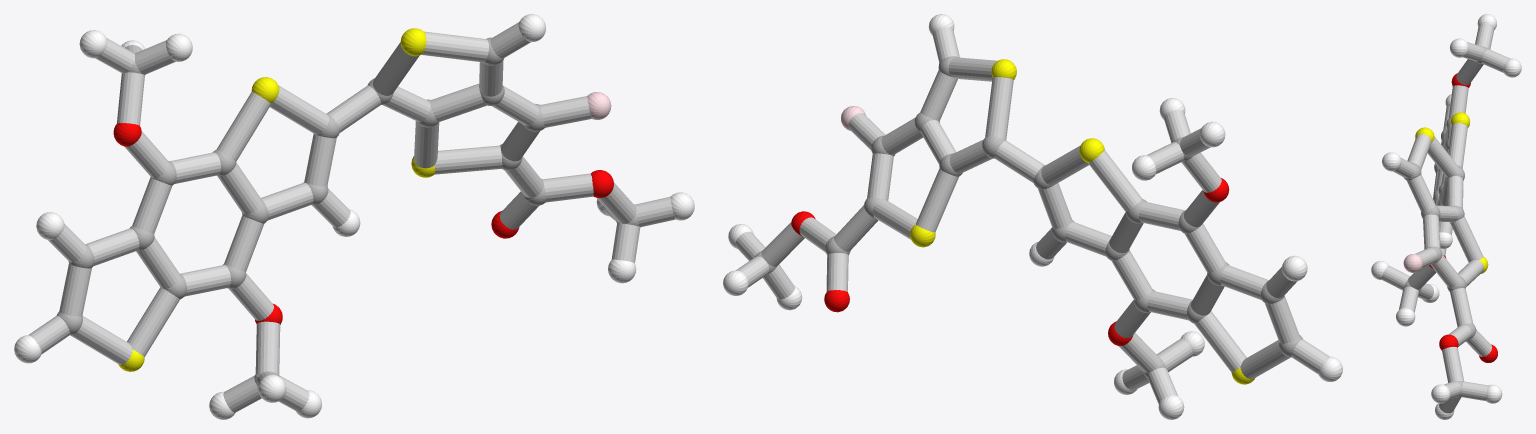
Rendered from Dimethoxy_Benzodithiophene_Phi_30_Theta_210_Methylcarbonyl_3_Fluoro_Thienothiophene.glb.
The picture shows the model from 3 angles, left to right: view 1: azimuth 30°, elevation 25°; view 2: azimuth 150°, elevation 25°; view 3: azimuth 270°, elevation 25°; orthographic projection. The views are drawn at different scales.
Parts seen in each view (by area): view 1: grp15205, grp8689, grp1, grp7241, grp13395; view 2: grp15205, grp8689, grp1, grp7241, grp13395; view 3: grp15205, grp8689, grp1, grp13395, grp7241, grp14843.
Boxes of the visible parts, left/top/right/bottom form: grp15205: left=28, top=22, right=675, bottom=412; grp8689: left=14, top=14, right=694, bottom=419; grp1: left=56, top=37, right=639, bottom=383; grp7241: left=118, top=28, right=434, bottom=371; grp13395: left=113, top=123, right=613, bottom=324; grp15205: left=735, top=27, right=1329, bottom=404; grp8689: left=723, top=14, right=1342, bottom=419; grp1: left=754, top=56, right=1302, bottom=378; grp7241: left=910, top=59, right=1254, bottom=384; grp13395: left=791, top=178, right=1229, bottom=345; grp15205: left=1381, top=24, right=1509, bottom=413; grp8689: left=1371, top=14, right=1521, bottom=419; grp1: left=1403, top=46, right=1488, bottom=397; grp13395: left=1429, top=73, right=1497, bottom=362; grp7241: left=1415, top=112, right=1488, bottom=273; grp14843: left=1403, top=254, right=1422, bottom=272.
Bounding box in the file's own units: 16.5 × 8.87 × 4.66.
